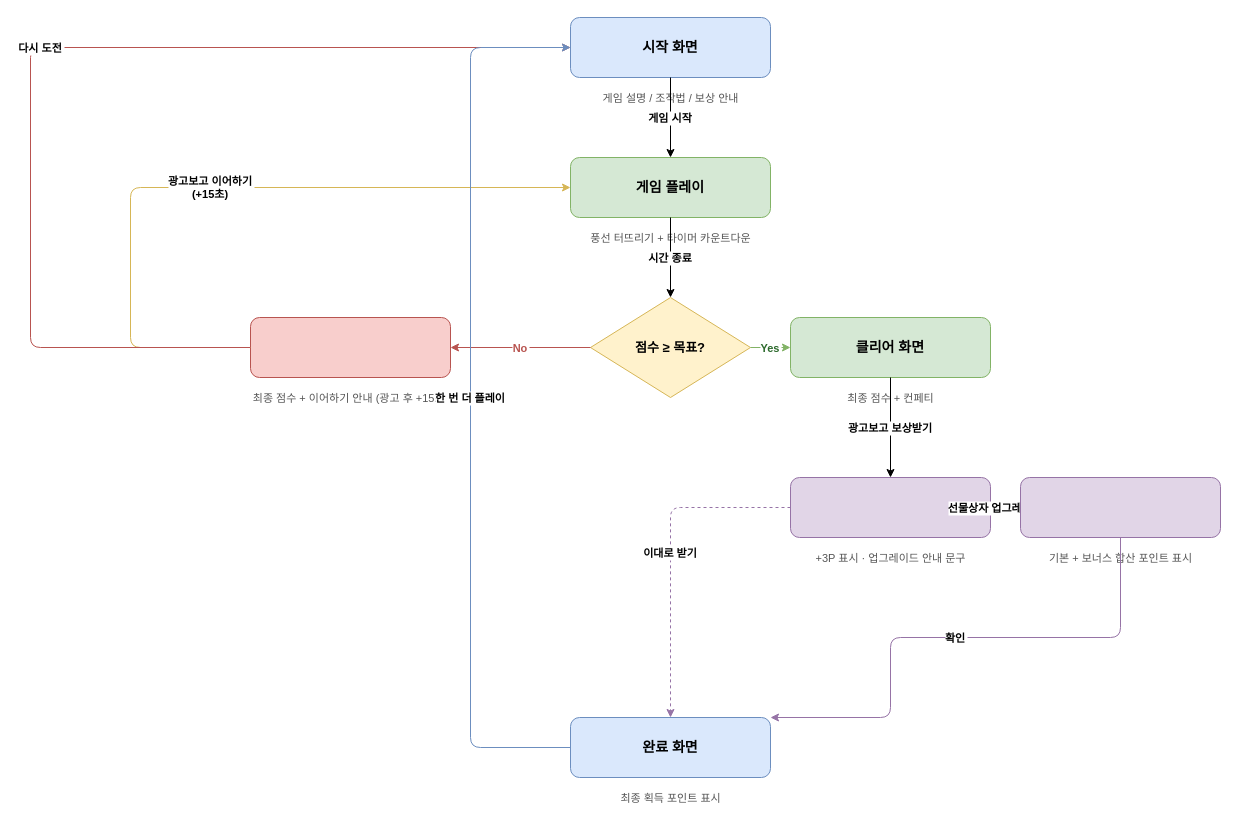
This 1238x823 diagram has some shape labels left out. Here are the shapes that lost their labels. From the top down, the centre of each, then its label:
the point at 350,347: 게임오버 화면
the point at 890,507: 보상 화면
the point at 1120,507: 업그레이드 화면
